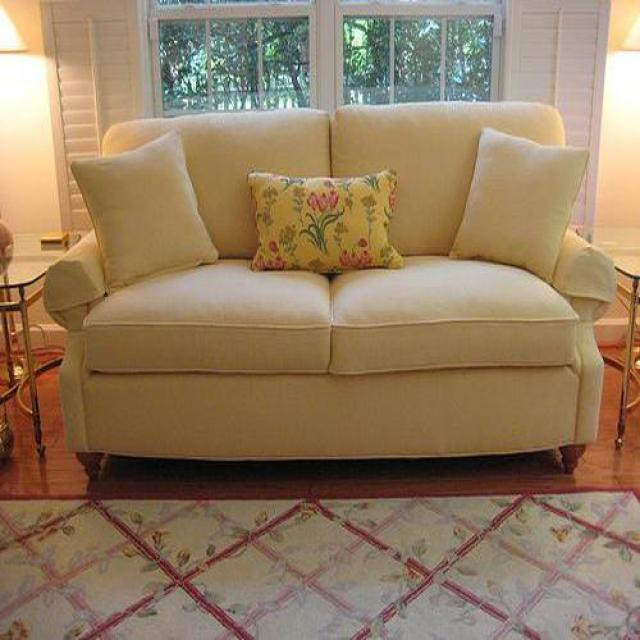sofa: (49, 102, 612, 465)
